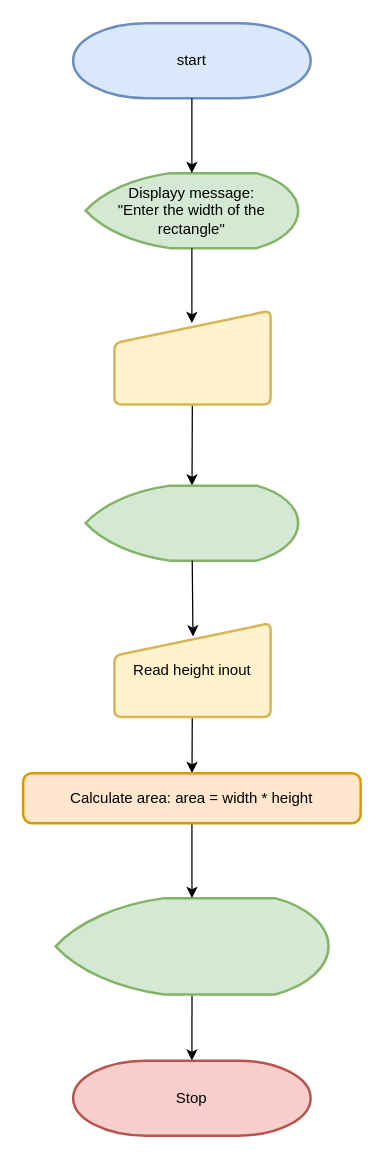
Some shapes in this 383 by 1158 pixel diagram are drawn without their labels. The box of each missing label's shape, as (x1, y1, x2, y2) in pixels:
Displayy message: "Enter the height of the rectangle": (84, 484, 299, 561)
Displayy message: "The area of the rectangle is" , area: (54, 896, 329, 995)
Read width inout: (112, 309, 271, 405)
